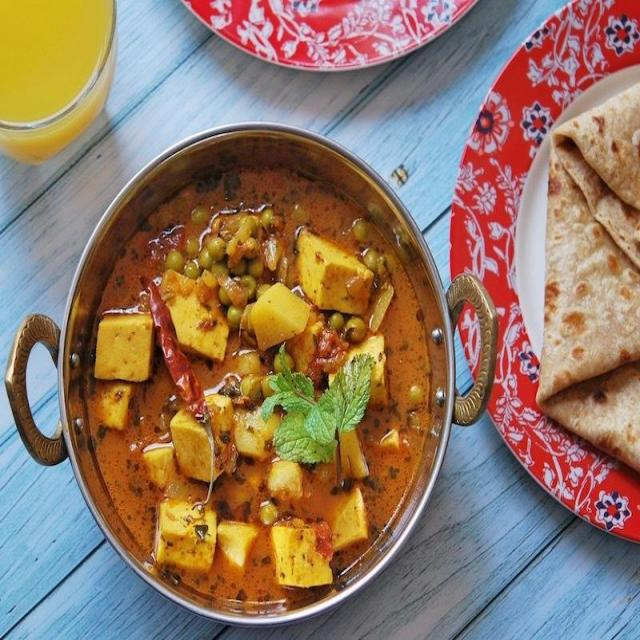roti: (549, 122, 640, 455)
